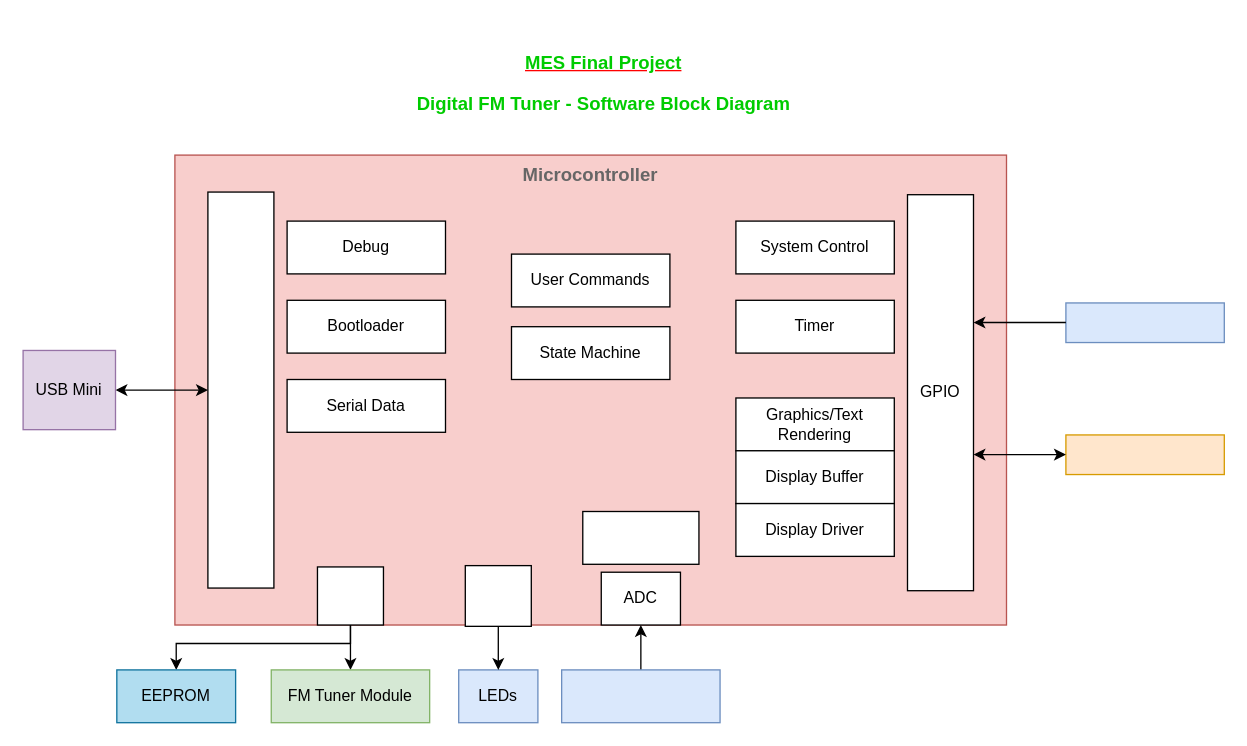
Image size: 1247x746. Some labels were removed from this diagram. Each missing label, with the centre of its shape:
2.4" TFT Display: the point at 1144,454
I2C: the point at 349,595
Mute / Preset PBs Resistive Divider: the point at 640,696
Preset Button Voltage: the point at 640,537
Scan Push Button: the point at 1144,322
SPI: the point at 497,595
SWD / VCP: the point at 240,389
